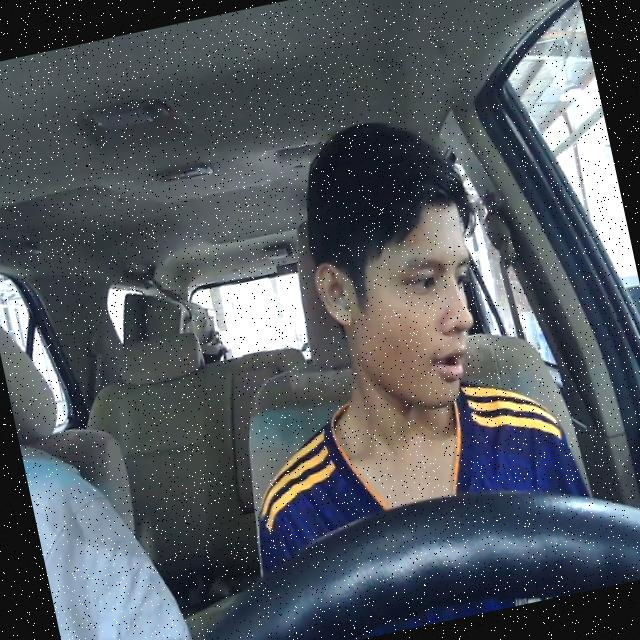yarning: (301, 196, 498, 427)
